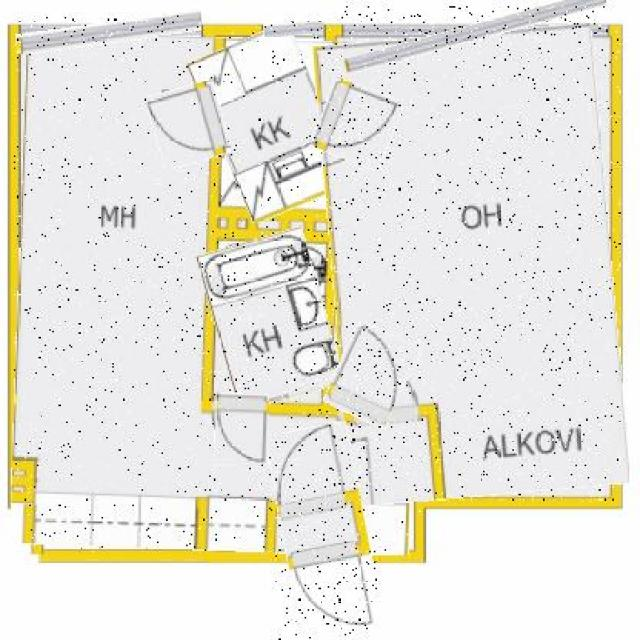door: (276, 424, 378, 640), (332, 326, 416, 425), (316, 82, 398, 166), (149, 83, 228, 165), (216, 394, 270, 466)
window: (14, 34, 421, 552), (323, 29, 620, 502), (202, 29, 338, 216), (204, 232, 336, 406), (342, 8, 608, 57), (15, 15, 202, 48), (263, 17, 323, 37)
